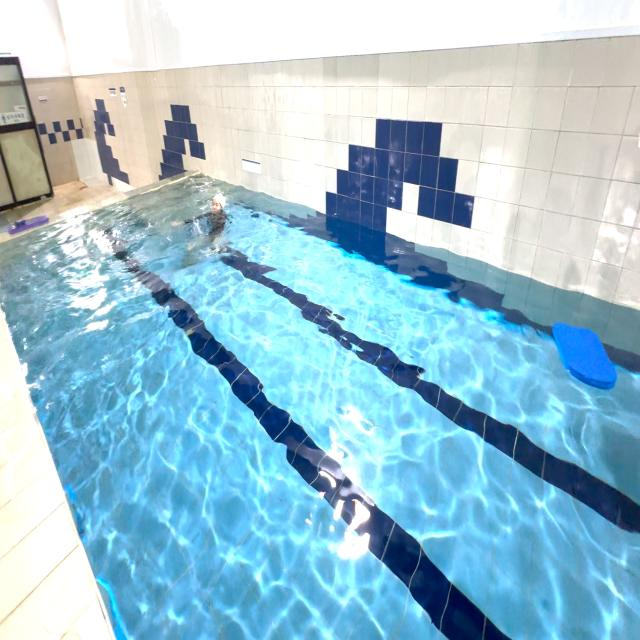Drowning: (165, 176, 251, 268)
